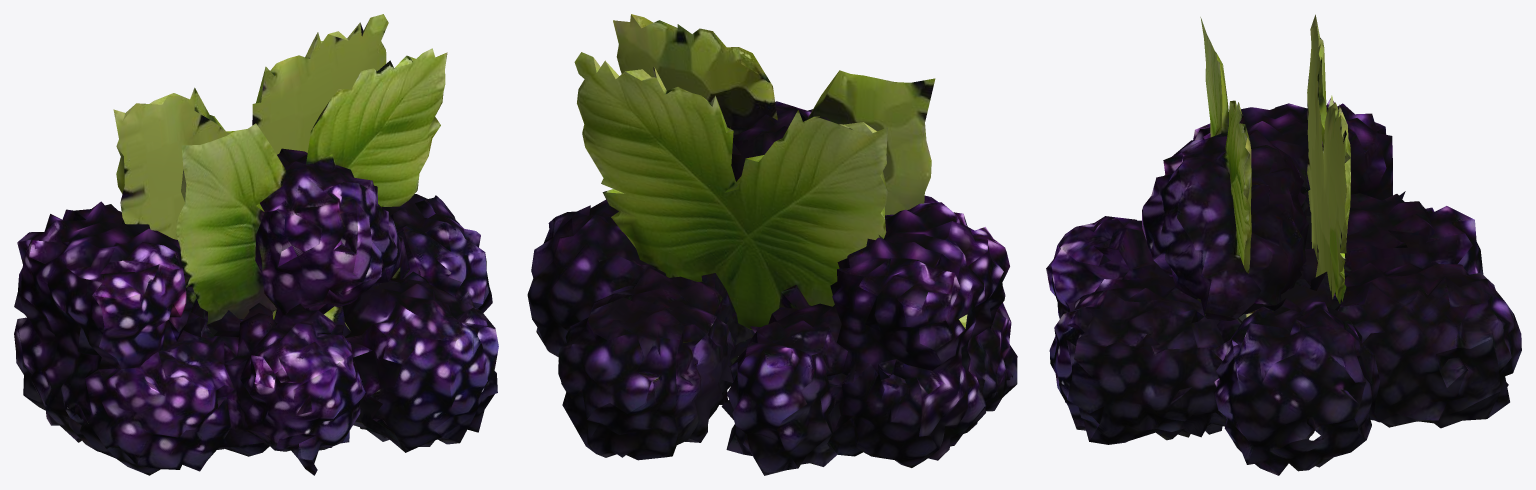
File: mulberry.glb
3 views of the same model, side by side, from view 1: azimuth 30°, elevation 25°; view 2: azimuth 150°, elevation 25°; view 3: azimuth 270°, elevation 25° (orthographic). The views are drawn at different scales.
Parts seen in each view (by area): view 1: mulberry; view 2: mulberry; view 3: mulberry.
Boxes of the visible parts, <box> form: mulberry: <box>14,14,498,475</box>; mulberry: <box>527,14,1017,475</box>; mulberry: <box>1046,14,1521,475</box>.
Size of the model in its own units: 1 by 0.7409 by 0.9497.
Materials: 1 (1 with a texture image).
